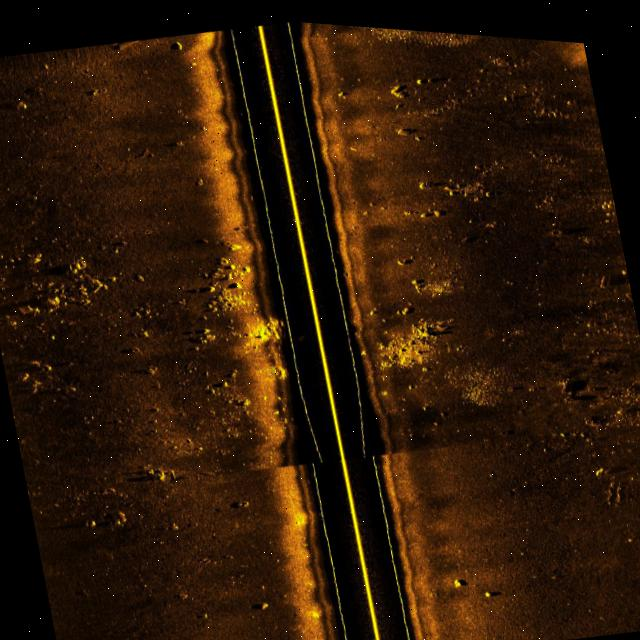mine: (110, 35, 142, 52), (479, 576, 498, 597), (622, 278, 632, 293)
other: (556, 362, 591, 389), (595, 257, 630, 283), (447, 566, 471, 586)
